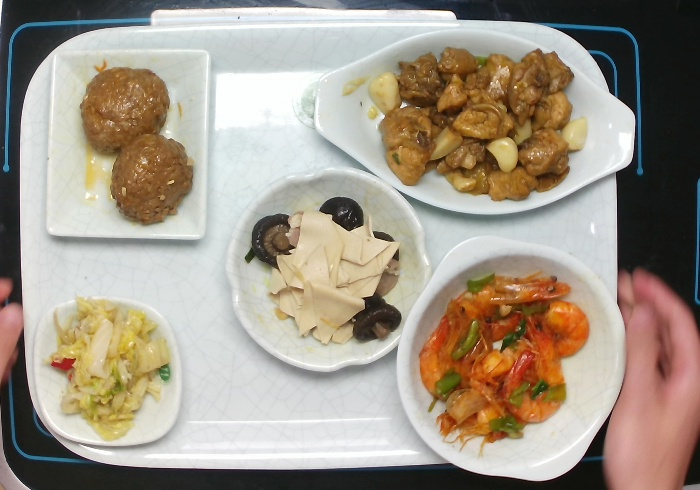JYsf-Ao_Yuan_Wan: (223, 168, 432, 373)
JYsf-Shuang_Er_Wan: (394, 233, 629, 482)
JYsf-Si_Fang_Die: (31, 295, 183, 448)
JYsf-Yu_Pan: (312, 27, 637, 216)
WCQzf-Ru_Ci_Si_Fang_Die: (44, 46, 213, 242)
